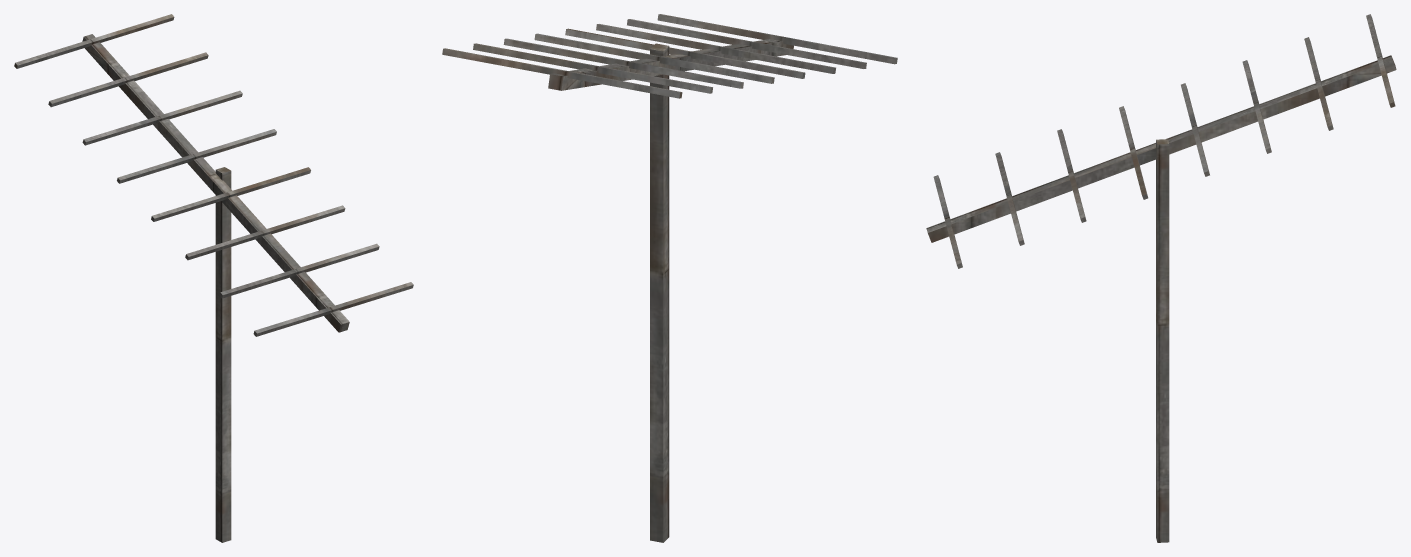
The model's file is AntenaGirar.fbx.
3 views of the same model, side by side, from view 1: azimuth 30°, elevation 25°; view 2: azimuth 150°, elevation 25°; view 3: azimuth 270°, elevation 25° (orthographic). The views are drawn at different scales.
Parts seen in each view (by area): view 1: Antenna_02; view 2: Antenna_02; view 3: Antenna_02.
Part boxes in pixels (x1=…): Antenna_02: x1=14, y1=14, x2=413, y2=542; Antenna_02: x1=442, y1=14, x2=897, y2=542; Antenna_02: x1=926, y1=14, x2=1396, y2=542.
Bounding box in the file's own units: 78.32 × 157 × 143.
Materials: 1 (1 with a texture image).
